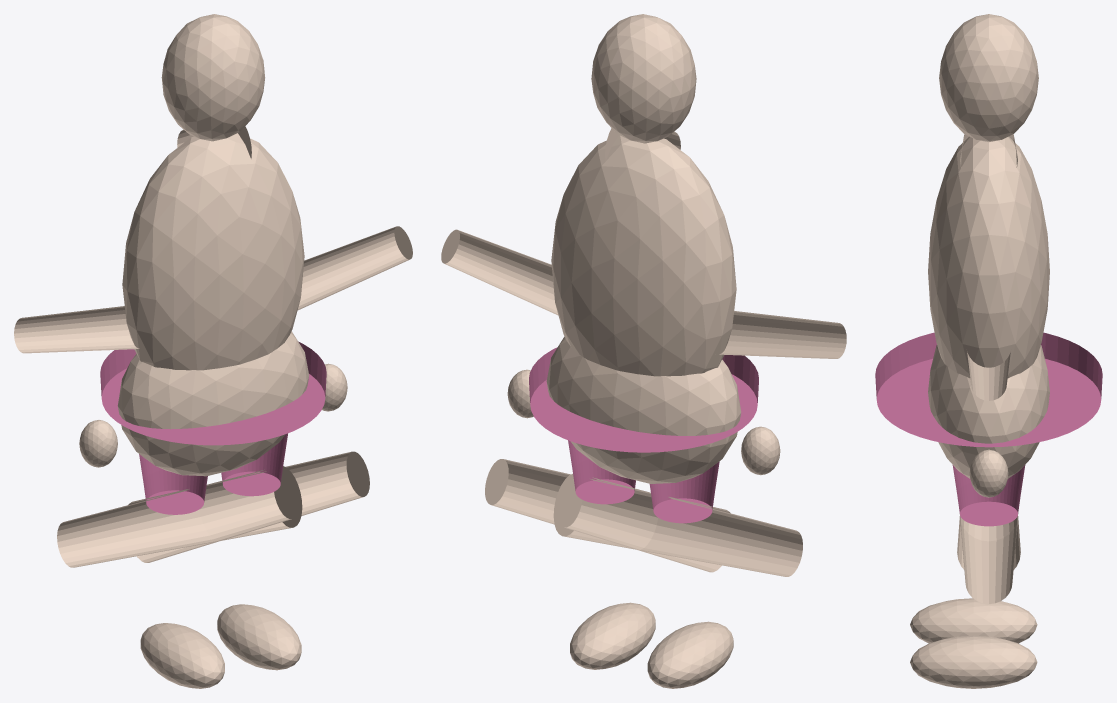
Rendered from femenino-shorts.glb.
The picture shows the model from 3 angles, left to right: view 1: azimuth 30°, elevation 25°; view 2: azimuth 150°, elevation 25°; view 3: azimuth 270°, elevation 25°; orthographic projection.
Parts seen in each view (by area): view 1: Avatar0, Avatar1, Prenda, Avatar3, Avatar4, Avatar8, Avatar10, Avatar6, Avatar5, Avatar9, Avatar7, Avatar11; view 2: Avatar0, Avatar1, Prenda, Avatar3, Avatar4, Avatar8, Avatar10, Avatar6, Avatar5, Avatar9, Avatar7, Avatar11; view 3: Avatar0, Prenda, Avatar3, Avatar1, Avatar9, Avatar5, Avatar8, Avatar11, Avatar10, Avatar4.
Boxes of the visible parts, box(x1,y1,x2,y2) form: Avatar0: box(122, 133, 304, 370); Avatar1: box(117, 331, 309, 476); Prenda: box(100, 341, 326, 514); Avatar3: box(161, 14, 265, 141); Avatar4: box(57, 466, 302, 567); Avatar8: box(128, 451, 369, 562); Avatar10: box(297, 226, 412, 310); Avatar6: box(14, 306, 139, 353); Avatar5: box(140, 623, 224, 688); Avatar9: box(217, 604, 301, 670); Avatar7: box(79, 420, 117, 467); Avatar11: box(322, 363, 347, 411); Avatar0: box(551, 135, 736, 376); Avatar1: box(546, 336, 741, 483); Prenda: box(529, 347, 758, 523); Avatar3: box(591, 14, 696, 143); Avatar4: box(553, 474, 802, 576); Avatar8: box(485, 459, 730, 572); Avatar10: box(441, 229, 558, 315); Avatar6: box(719, 311, 846, 358); Avatar5: box(647, 621, 733, 688); Avatar9: box(570, 602, 655, 669); Avatar7: box(741, 426, 780, 475); Avatar11: box(507, 369, 533, 418); Avatar0: box(928, 136, 1049, 378); Prenda: box(875, 332, 1102, 526); Avatar3: box(939, 14, 1038, 141); Avatar1: box(928, 345, 1049, 478); Avatar9: box(910, 635, 1037, 688); Avatar5: box(910, 598, 1037, 643); Avatar8: box(960, 517, 1017, 603); Avatar11: box(969, 449, 1008, 497); Avatar10: box(967, 351, 1010, 400); Avatar4: box(957, 516, 1020, 569).
Bounding box in the file's own units: 1.61 × 2.58 × 0.82.
